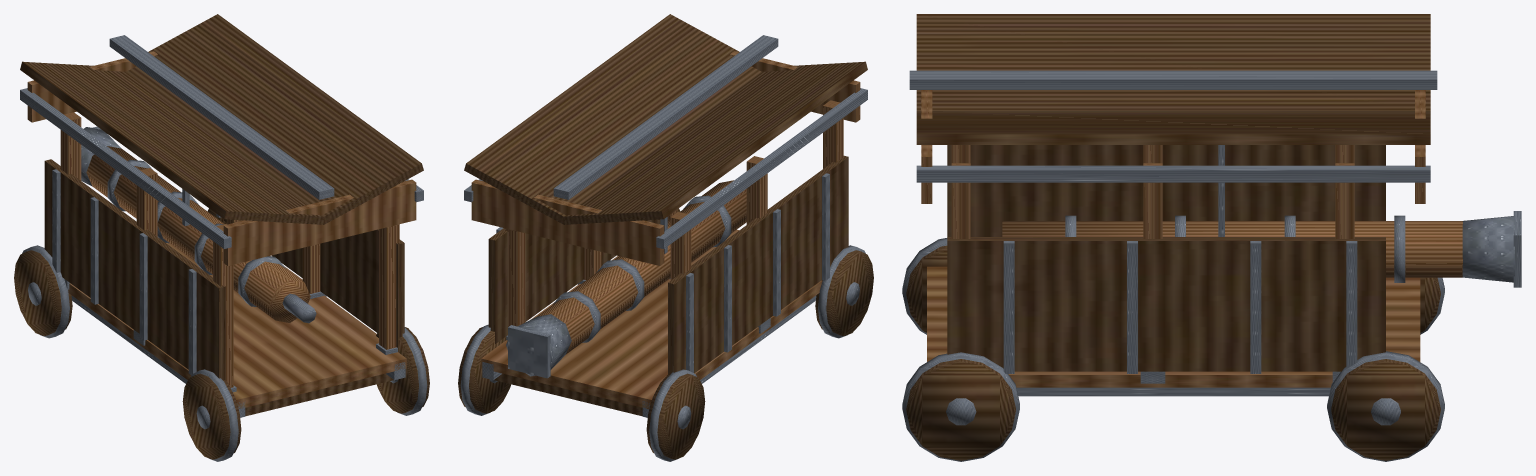
The model's file is ae_ram_iron_lod0.glb.
3 renders of one model, left to right at view 1: azimuth 30°, elevation 25°; view 2: azimuth 150°, elevation 25°; view 3: azimuth 270°, elevation 25°, orthographic. The views are drawn at different scales.
Visible parts, largest first — view 1: roofR, wallL, roofL, floor, gable_r, log_core, wallR, ridge, eaveL, wheel_RL_rim, wheel_FL_rim, post_1_0 (+19 smaller); view 2: roofR, roofL, wallL, floor, gable_f, log_core, wallR, ridge, eaveL, wheel_FL_rim, wheel_RL_rim, wheel_FR_rim (+20 smaller); view 3: wallR, roofL, wallL, roofR, ridge, floor, eaveR, log_core, wheel_RR_rim, wheel_FR_rim, ram_head, runnerR (+17 smaller).
Boxes of the visible parts, left/top/right/bottom form: roofR: left=126, top=14, right=423, bottom=224; wallL: left=44, top=159, right=225, bottom=380; roofL: left=20, top=61, right=325, bottom=224; floor: left=68, top=243, right=406, bottom=408; gable_r: left=223, top=179, right=416, bottom=265; log_core: left=86, top=146, right=310, bottom=322; wallR: left=224, top=219, right=404, bottom=347; ridge: left=109, top=35, right=334, bottom=199; eaveL: left=20, top=88, right=231, bottom=248; wheel_RL_rim: left=182, top=373, right=241, bottom=459; wheel_FL_rim: left=14, top=250, right=72, bottom=336; post_1_0: left=379, top=224, right=399, bottom=349; roofR: left=464, top=14, right=761, bottom=224; roofL: left=562, top=61, right=867, bottom=224; wallL: left=668, top=155, right=848, bottom=374; floor: left=481, top=229, right=822, bottom=409; gable_f: left=471, top=179, right=664, bottom=265; log_core: left=537, top=180, right=746, bottom=354; wallR: left=488, top=219, right=660, bottom=343; ridge: left=553, top=35, right=778, bottom=199; eaveL: left=656, top=88, right=867, bottom=248; wheel_FL_rim: left=646, top=373, right=705, bottom=459; wheel_RL_rim: left=815, top=250, right=873, bottom=336; wheel_FR_rim: left=458, top=327, right=510, bottom=413; wallR: left=947, top=237, right=1385, bottom=371; roofL: left=916, top=14, right=1430, bottom=110; wallL: left=947, top=145, right=1385, bottom=236; roofR: left=916, top=111, right=1430, bottom=144; ridge: left=909, top=70, right=1437, bottom=89; floor: left=927, top=266, right=1420, bottom=387; eaveR: left=916, top=165, right=1430, bottom=182; log_core: left=1002, top=221, right=1462, bottom=277; wheel_RR_rim: left=906, top=359, right=1015, bottom=460; wheel_FR_rim: left=1331, top=359, right=1440, bottom=460; ram_head: left=1462, top=216, right=1514, bottom=282; runnerR: left=1016, top=387, right=1330, bottom=396.
Size of the model in its own units: 2.2 by 2.64 by 4.52.
Materials: 2 (2 with a texture image).
